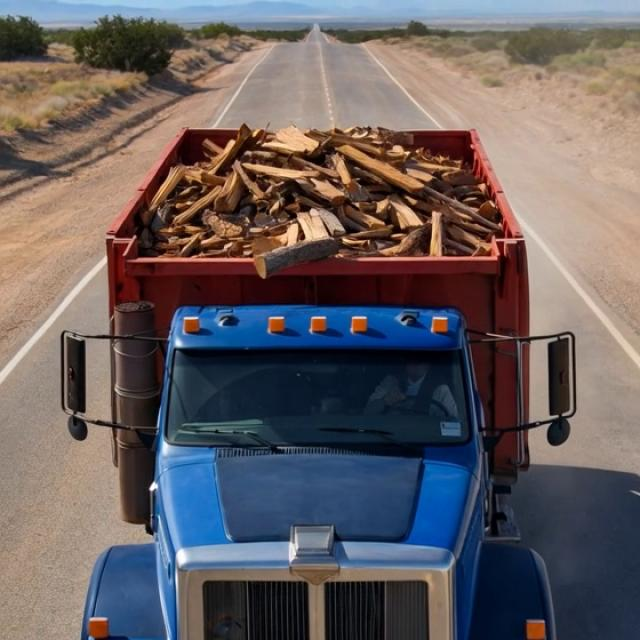Box: (104, 112, 526, 279)
Truck: (7, 97, 585, 640)
